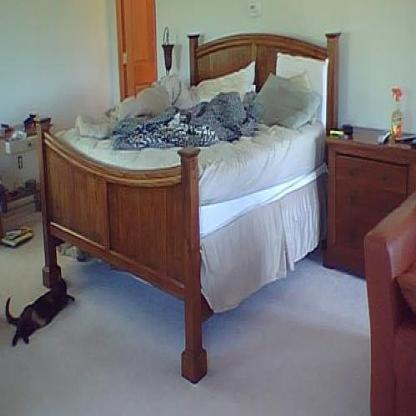Bed: (34, 33, 336, 389)
